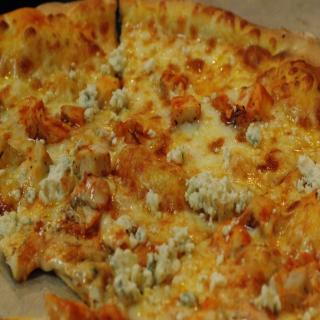Pizza: (0, 0, 320, 315)
